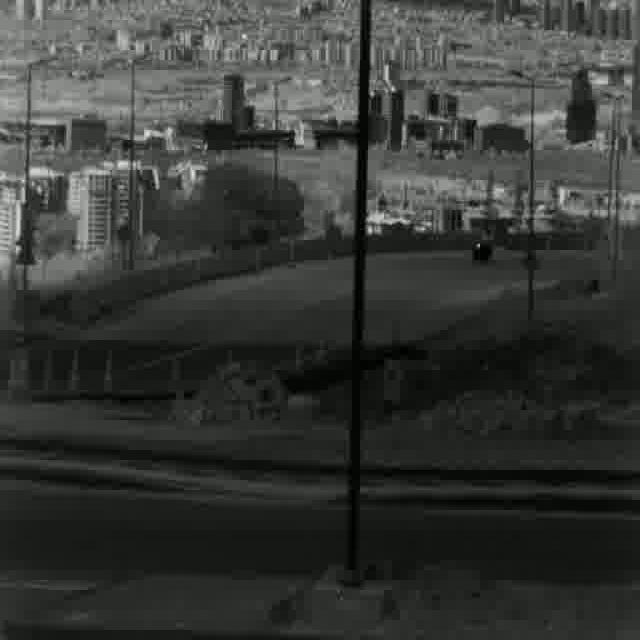Motorcycle: (471, 231, 496, 261)
